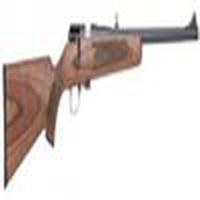gun: (2, 20, 200, 161)
